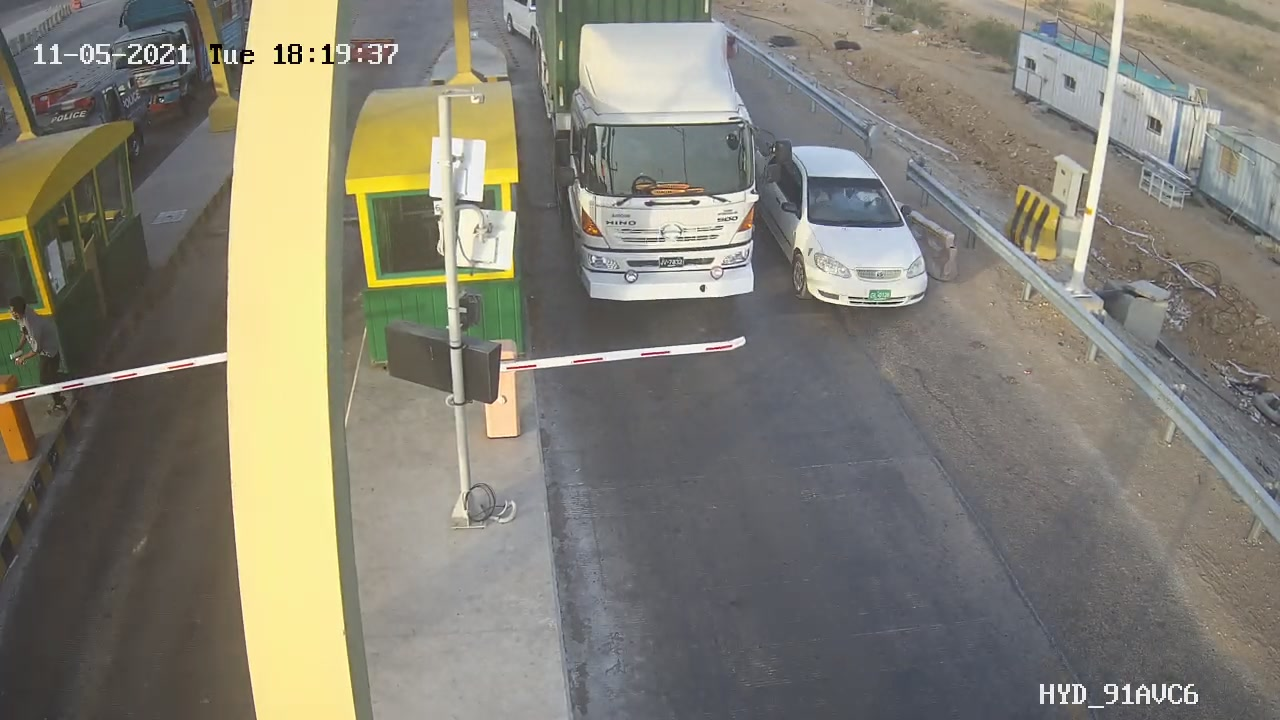F6: (534, 1, 774, 305)
